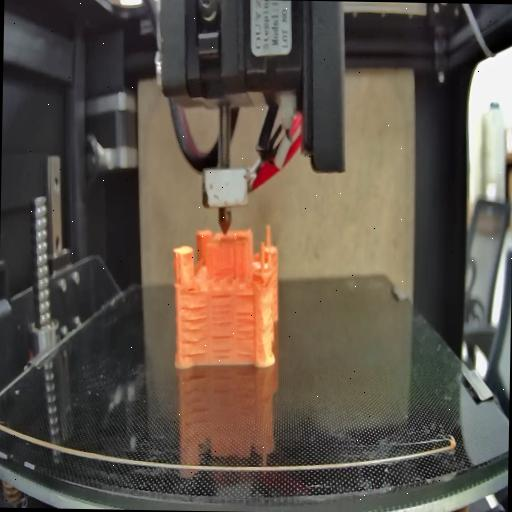cracks: (180, 302, 208, 356), (234, 307, 256, 360), (210, 292, 234, 329), (212, 335, 232, 360), (216, 262, 231, 276), (236, 290, 252, 302), (184, 284, 199, 294)
